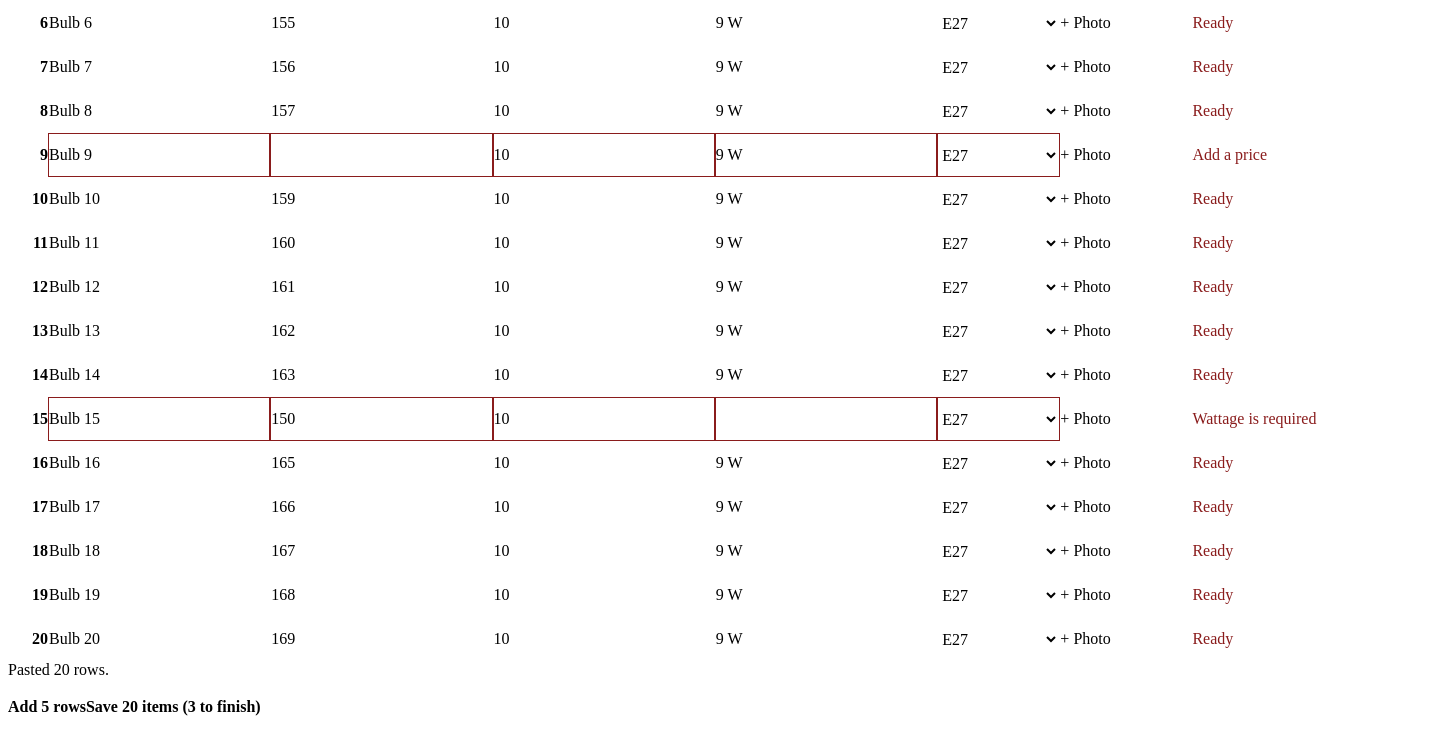
table add › pastes 20 rows, saves the good ones, and keeps the bad row in the table
(page scrolled)
Check: the text "Pasted 20 rows." is shown, box top-left (8, 661), bottom-right (109, 678)
Check: the field named "Name, row 15" holds "Bulb 15", box top-left (48, 397), bottom-right (270, 441)
Click the button "Save 20 items (3 to finish)" at (173, 707), box top-left (86, 685), bottom-right (261, 729)
(page scrolled)
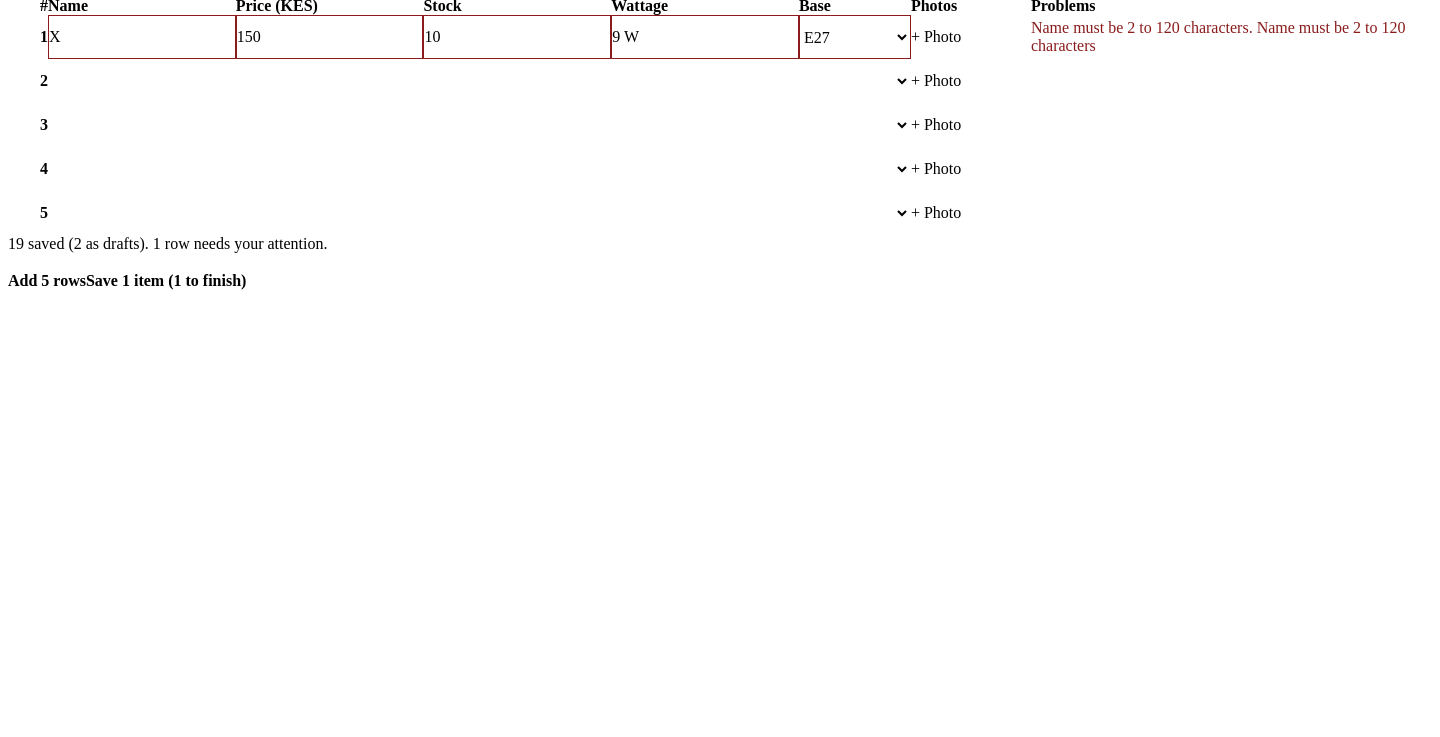
Check: the message reads "19 saved (2 as drafts). 1 row needs your attention.", box top-left (8, 235), bottom-right (328, 252)
Check: the field named "Name, row 1" holds "X", box top-left (48, 15), bottom-right (236, 59)
